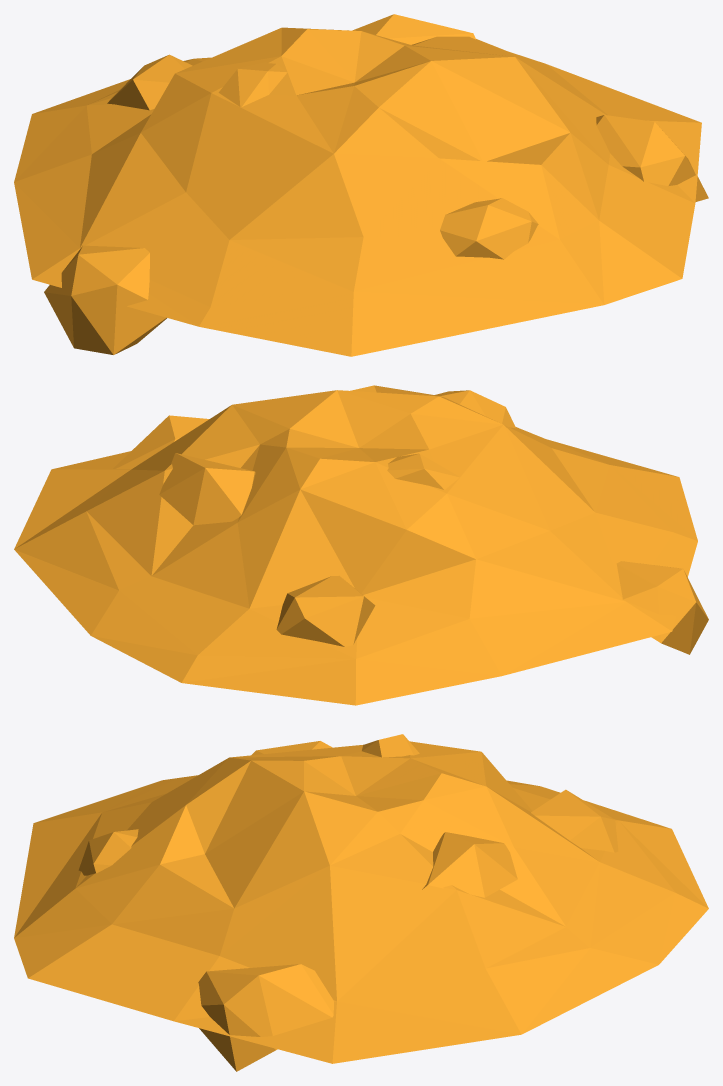
File: SM_Dirt_Pile_Small.fbx
The picture shows the model from 3 angles, top to bottom: view 1: azimuth 30°, elevation 25°; view 2: azimuth 150°, elevation 25°; view 3: azimuth 270°, elevation 25°; orthographic projection. The views are drawn at different scales.
Visible parts, largest first — view 1: dirt-pile-small; view 2: dirt-pile-small; view 3: dirt-pile-small.
Boxes of the visible parts, left/top/right/bottom form: dirt-pile-small: left=14, top=14, right=708, bottom=356; dirt-pile-small: left=14, top=385, right=708, bottom=705; dirt-pile-small: left=14, top=734, right=708, bottom=1071.
Bounding box in the file's own units: 0.429 × 0.1203 × 0.4033.
